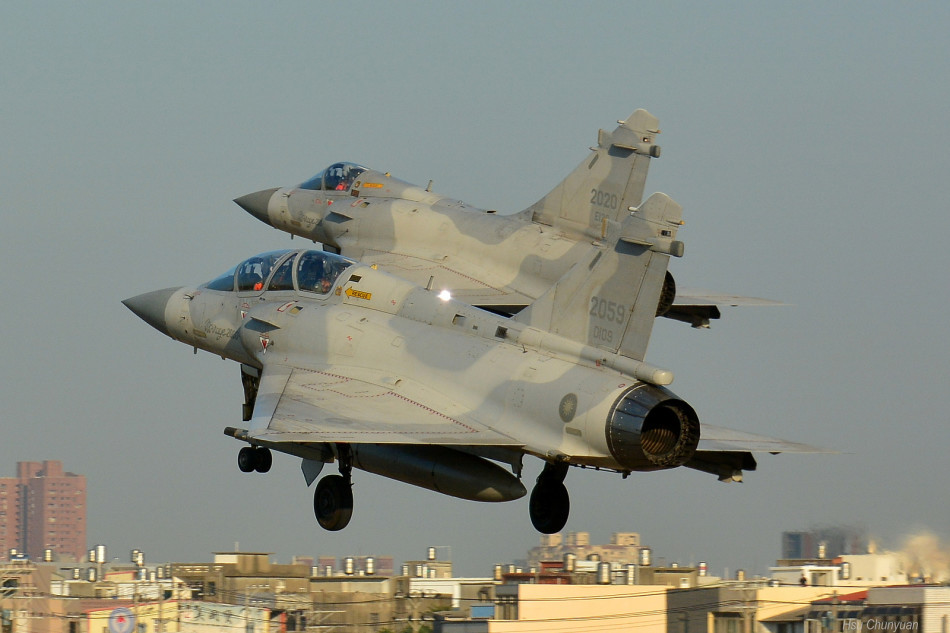Mirage2000: (120, 191, 857, 535), (231, 108, 798, 330)
